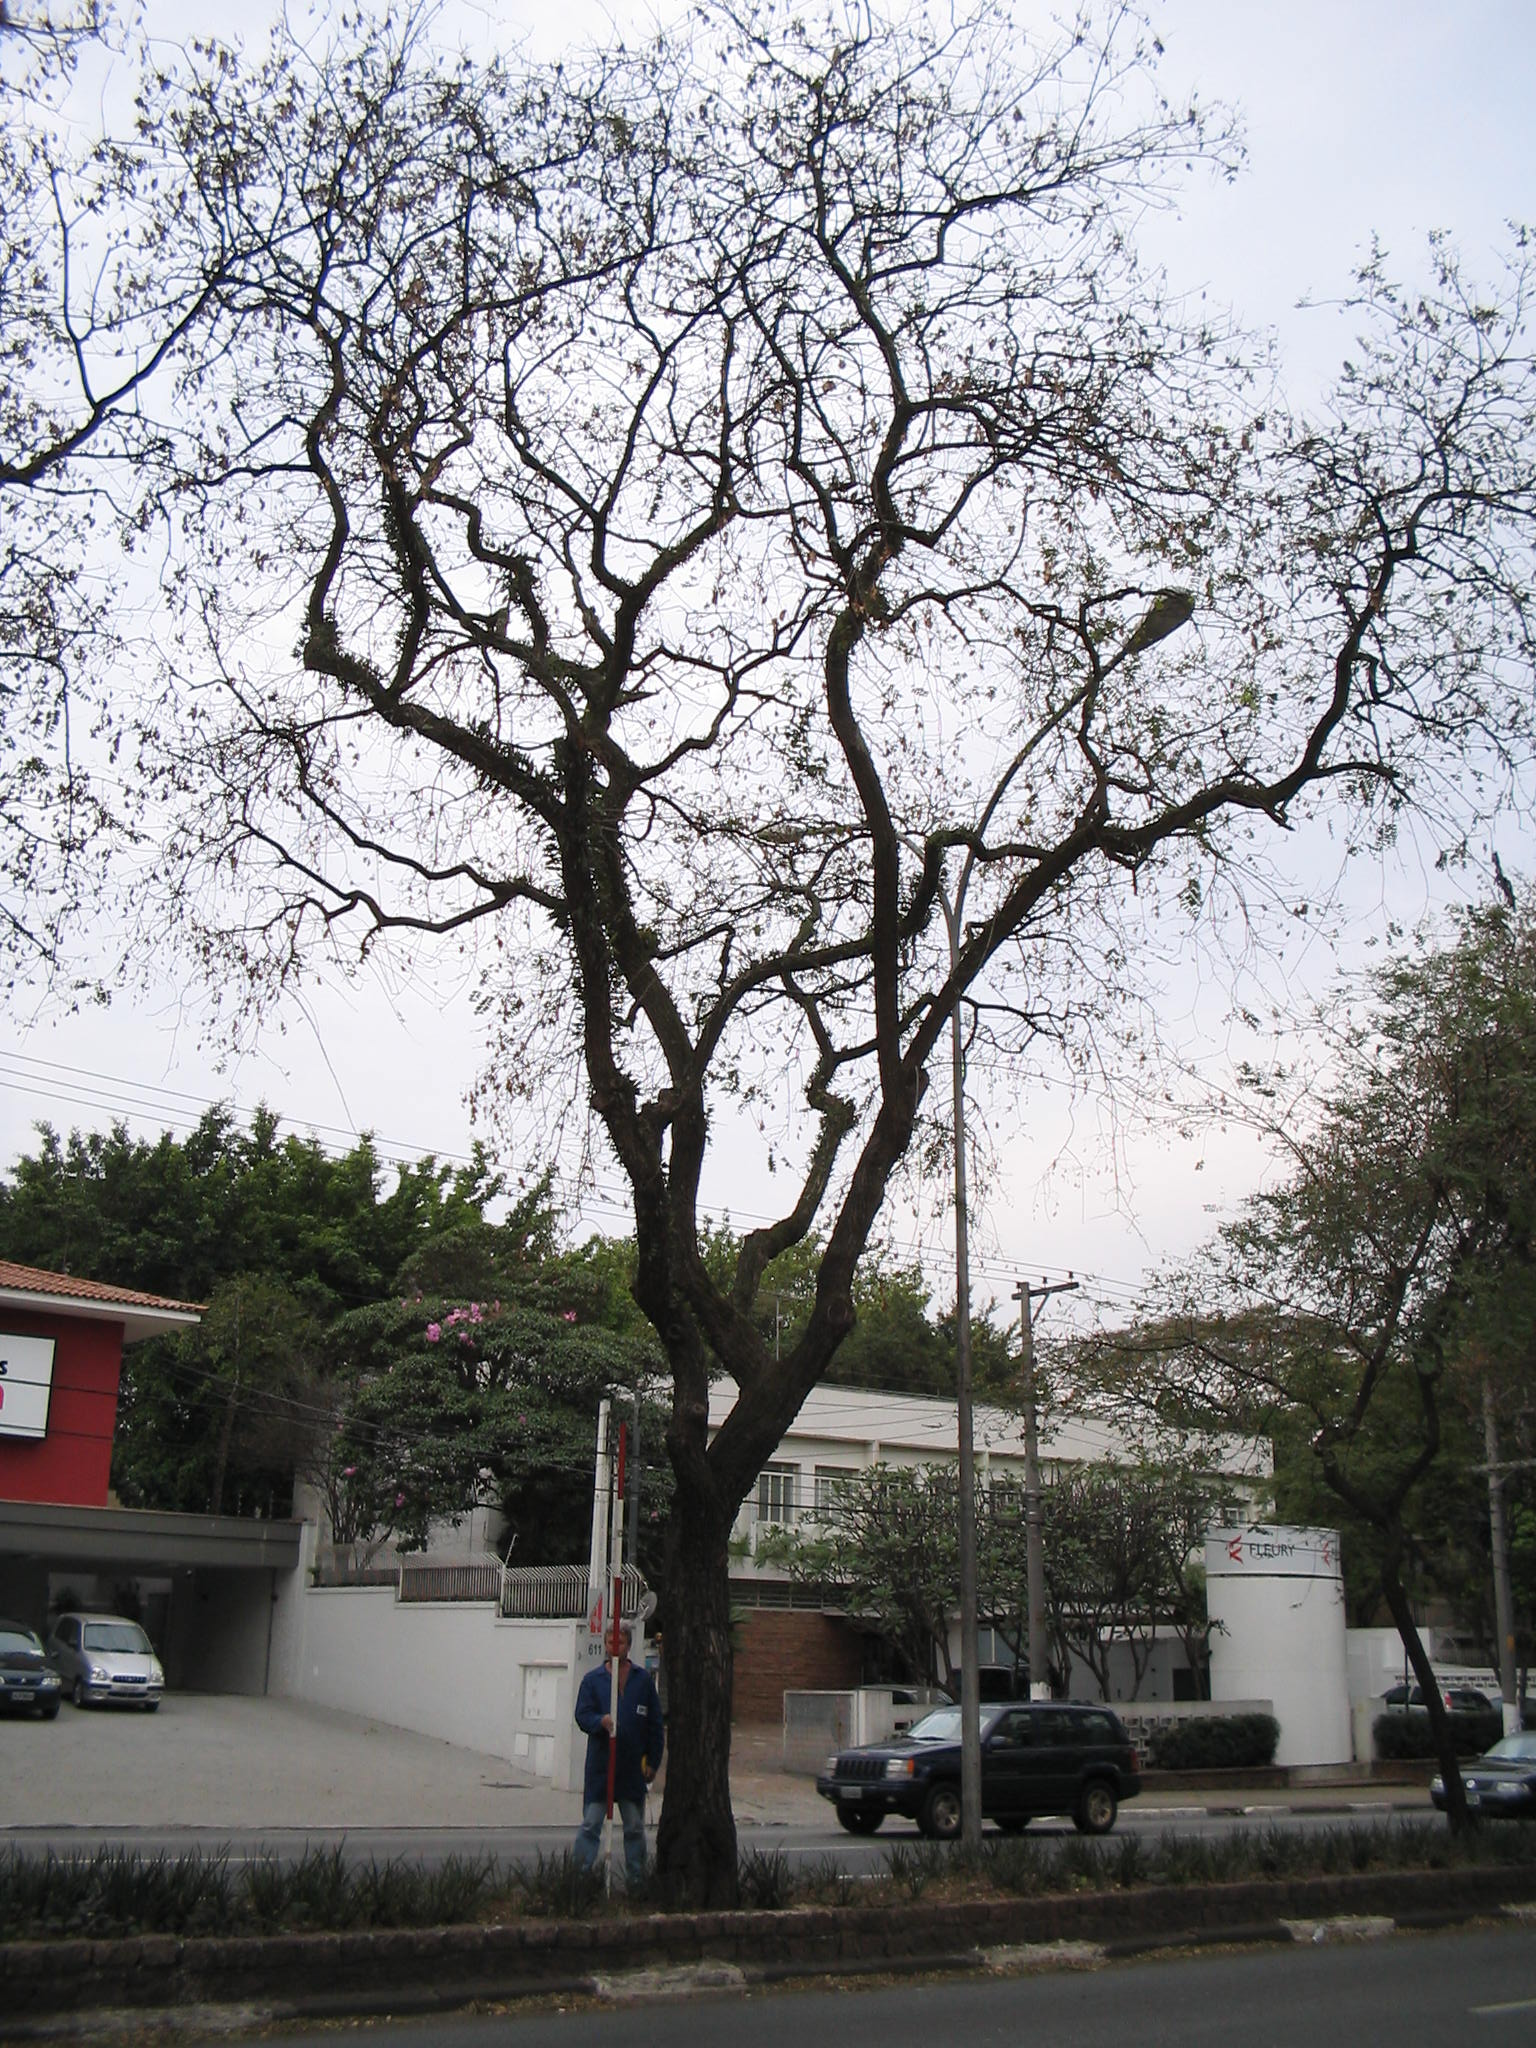stem: (629, 1508, 787, 1911)
stick: (574, 1421, 645, 1904)
tree: (18, 3, 1530, 1916), (1096, 1118, 1504, 1834)
